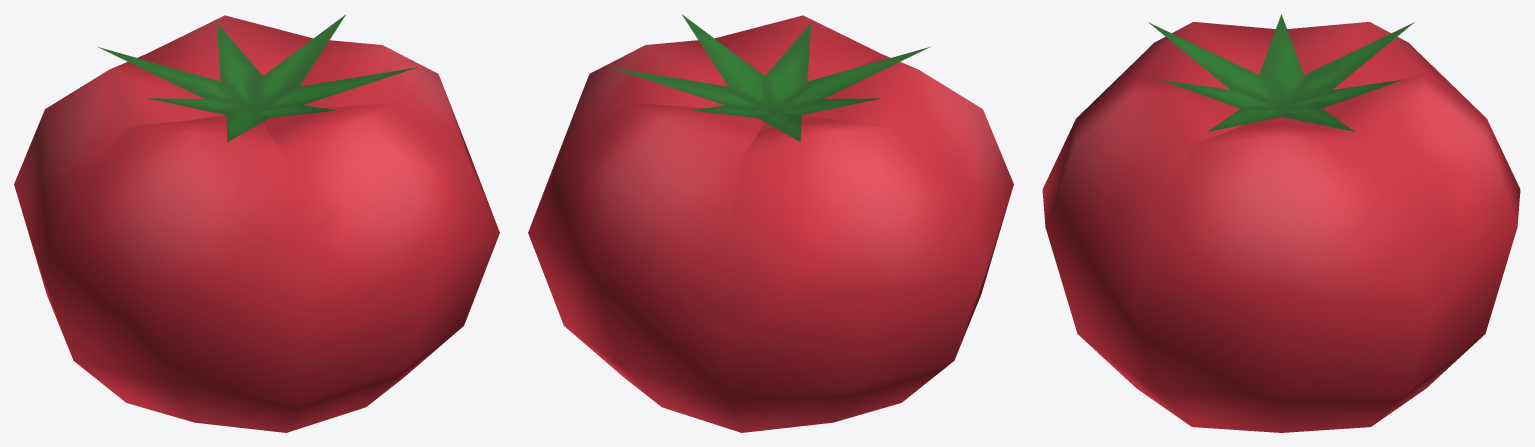
Rendered from Tomtato.fbx.
3 renders of one model, left to right at view 1: azimuth 30°, elevation 25°; view 2: azimuth 150°, elevation 25°; view 3: azimuth 270°, elevation 25°, orthographic. The views are drawn at different scales.
Visible parts, largest first — view 1: pCylinder4; view 2: pCylinder4; view 3: pCylinder4.
Part boxes in pixels (bbox=[...]): pCylinder4: bbox=[14, 14, 499, 432]; pCylinder4: bbox=[528, 14, 1013, 432]; pCylinder4: bbox=[1042, 14, 1520, 432].
Bounding box in the file's own units: 1.83 × 1.34 × 1.75.
